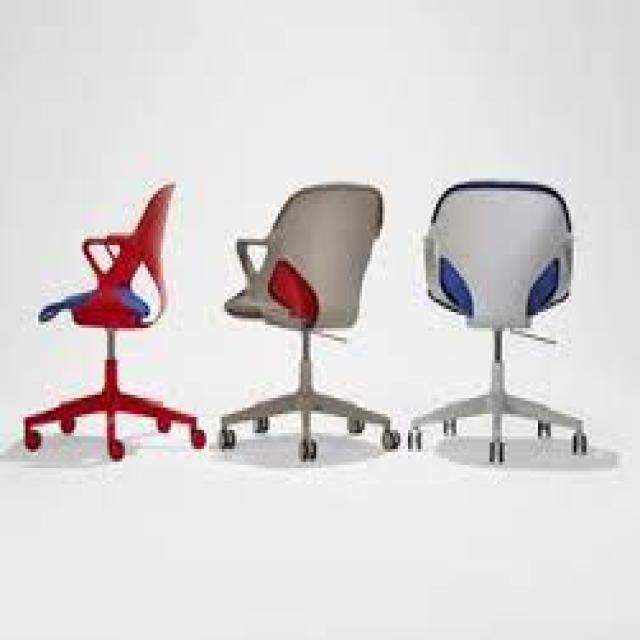chair: (400, 142, 633, 500), (0, 160, 214, 503), (208, 140, 404, 498)
